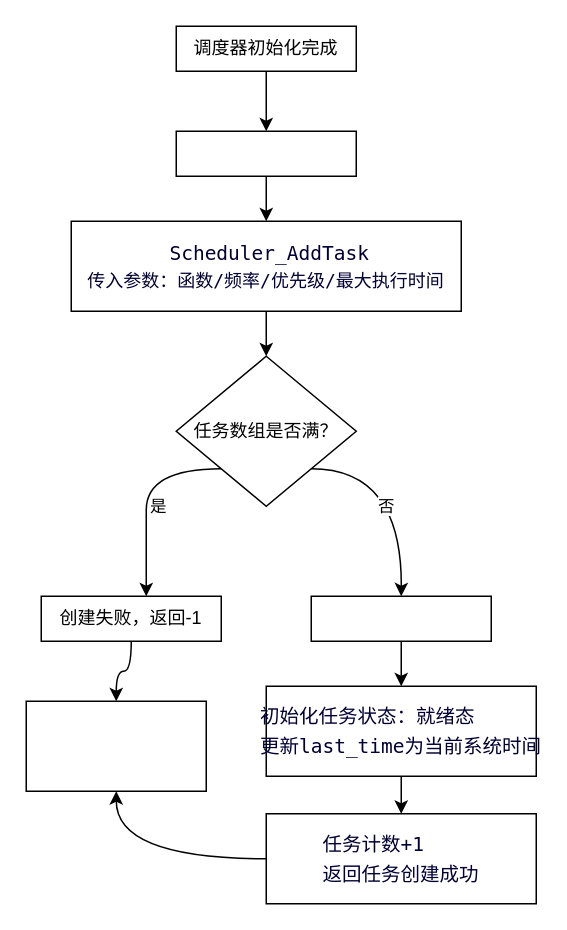
Some shapes in this 567 by 930 pixel diagram are drawn without their labels. The centre of each missing label's shape, as x and y in pixels:
"任务创建" belongs at [265,153].
"回到任务主循环 等待调度" belongs at [115,745].
"遍历任务块，配置参数" belongs at [400,618].
